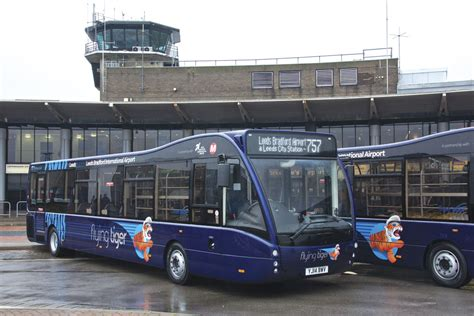bus: (31, 139, 355, 280), (338, 144, 474, 283)
